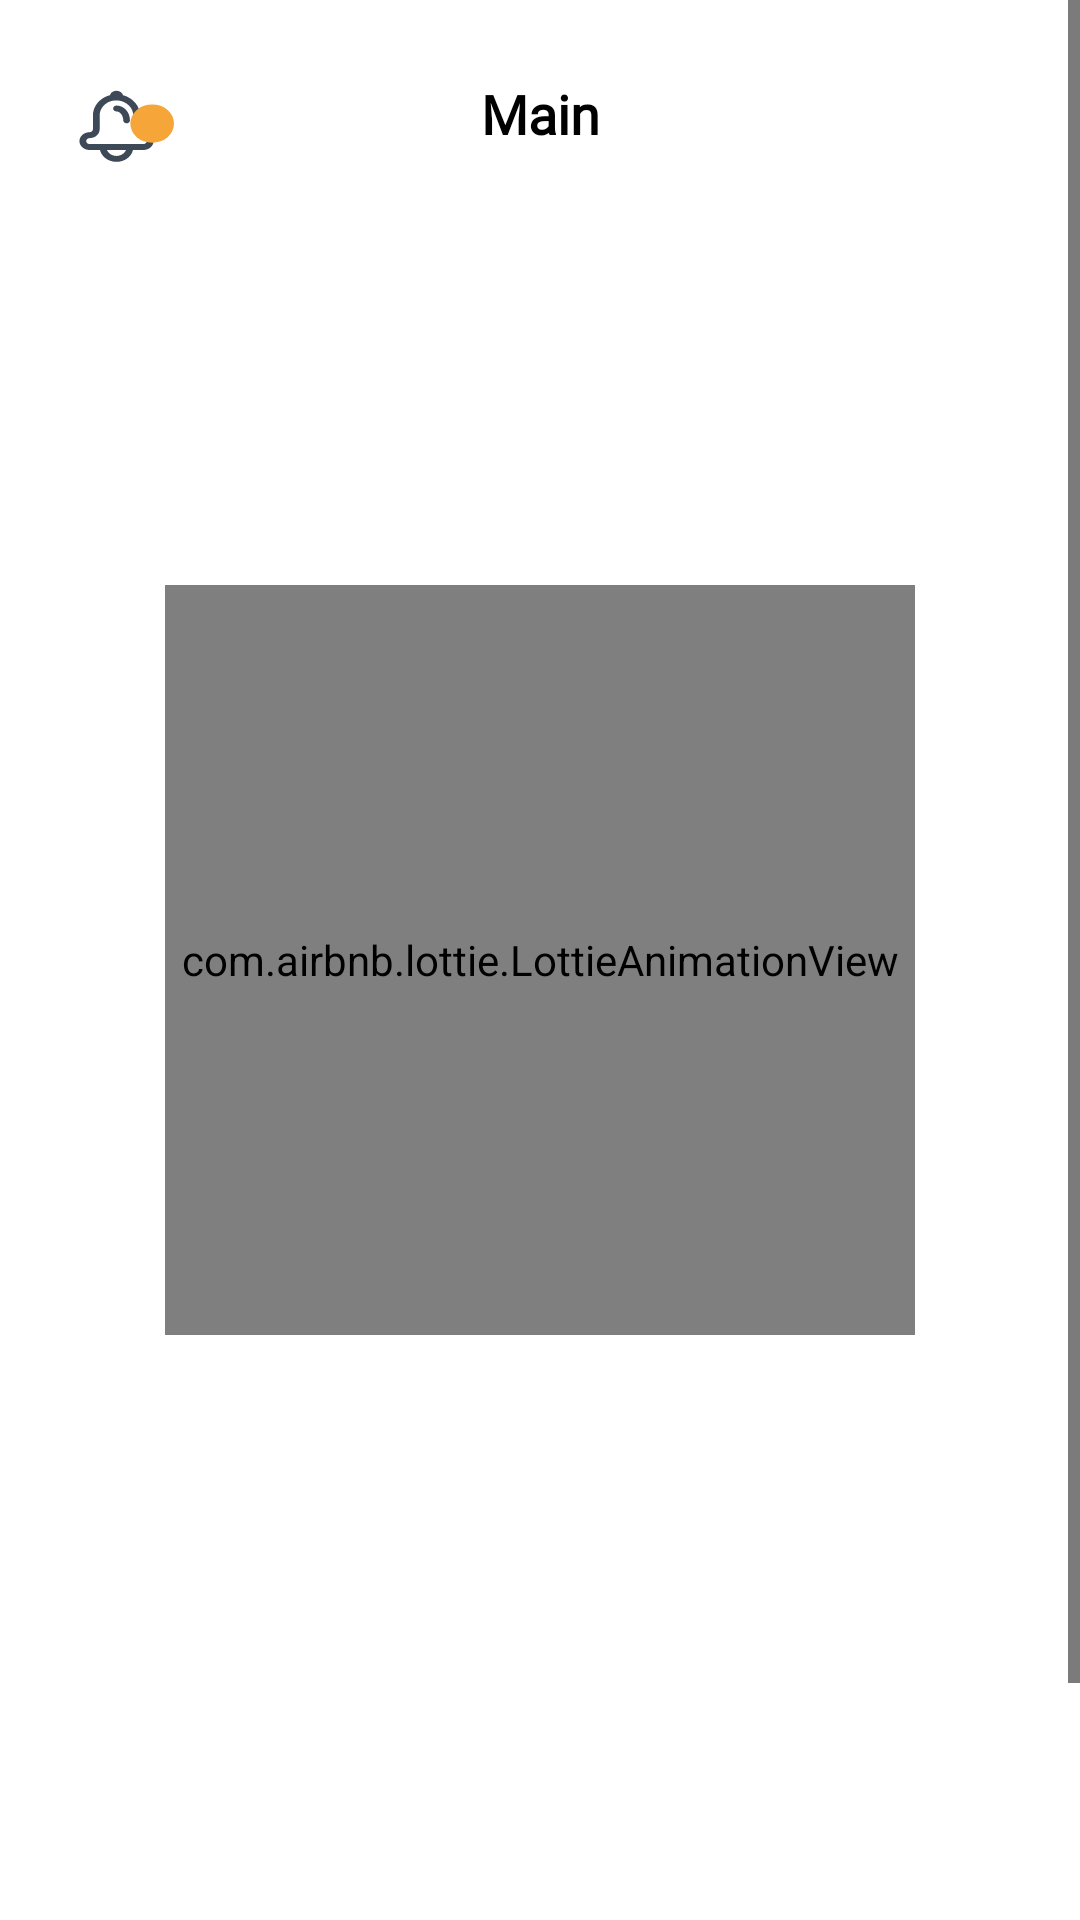

Icon click points for this 1080px x 1920px phone screenshot, format [x,y]:
notifications: [126,126]
